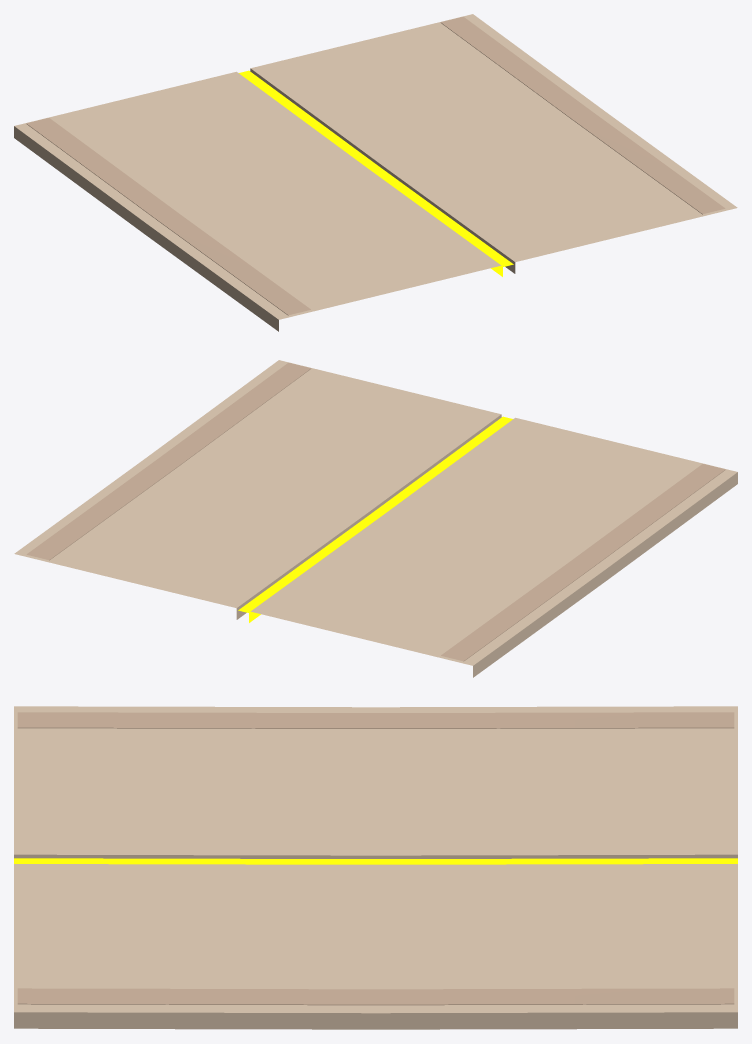
File: ext_paving_plaza_05.glb
The picture shows the model from 3 angles, top to bottom: view 1: azimuth 30°, elevation 25°; view 2: azimuth 150°, elevation 25°; view 3: azimuth 270°, elevation 25°; orthographic projection. The views are drawn at different scales.
Parts seen in each view (by area): view 1: Pavers, Edge_Bands, Glow_Channel; view 2: Pavers, Edge_Bands, Glow_Channel; view 3: Pavers, Edge_Bands, Glow_Channel.
Boxes of the visible parts, x1=… form: Pavers: x1=14, y1=14, x2=737, y2=331; Edge_Bands: x1=26, y1=16, x2=725, y2=315; Glow_Channel: x1=239, y1=70, x2=513, y2=276; Pavers: x1=14, y1=360, x2=737, y2=677; Edge_Bands: x1=26, y1=362, x2=725, y2=661; Glow_Channel: x1=238, y1=416, x2=512, y2=622; Pavers: x1=14, y1=706, x2=737, y2=1029; Edge_Bands: x1=17, y1=712, x2=734, y2=1005; Glow_Channel: x1=14, y1=858, x2=737, y2=864.
Size of the model in its own units: 1.99 by 0.0566 by 1.99.
